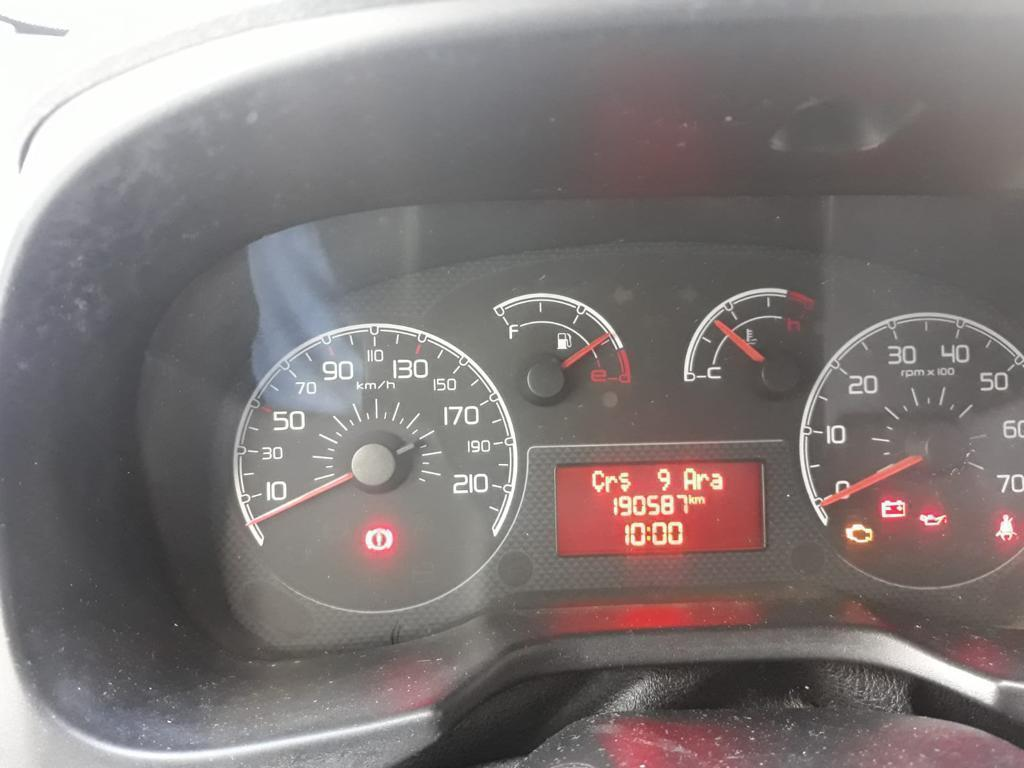0: (667, 520, 683, 545), (651, 520, 667, 545), (630, 521, 645, 546), (632, 494, 646, 516)
1: (612, 495, 618, 516), (624, 522, 629, 546)
5: (646, 494, 660, 515)
7: (675, 493, 688, 514)
8: (660, 494, 673, 515)
9: (657, 467, 671, 490), (618, 495, 632, 516)
X: (591, 469, 604, 492), (683, 467, 696, 490), (618, 471, 631, 492), (710, 472, 723, 489), (696, 472, 709, 489), (605, 474, 617, 492), (695, 495, 705, 504), (688, 493, 695, 504), (646, 524, 650, 542)
odometer: (549, 455, 773, 560)
